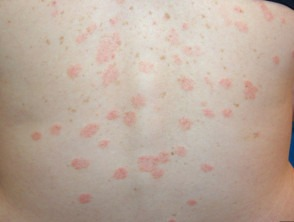Ringworm: (104, 92, 151, 132), (131, 152, 181, 186), (25, 121, 66, 145), (173, 76, 204, 100), (66, 151, 94, 177), (78, 118, 101, 141), (78, 186, 98, 210), (201, 157, 221, 181), (62, 64, 86, 84), (111, 165, 133, 185), (181, 196, 204, 213), (101, 139, 113, 148)
